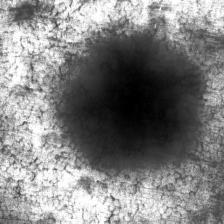Benign Marking or Mole: (68, 45, 199, 161)
